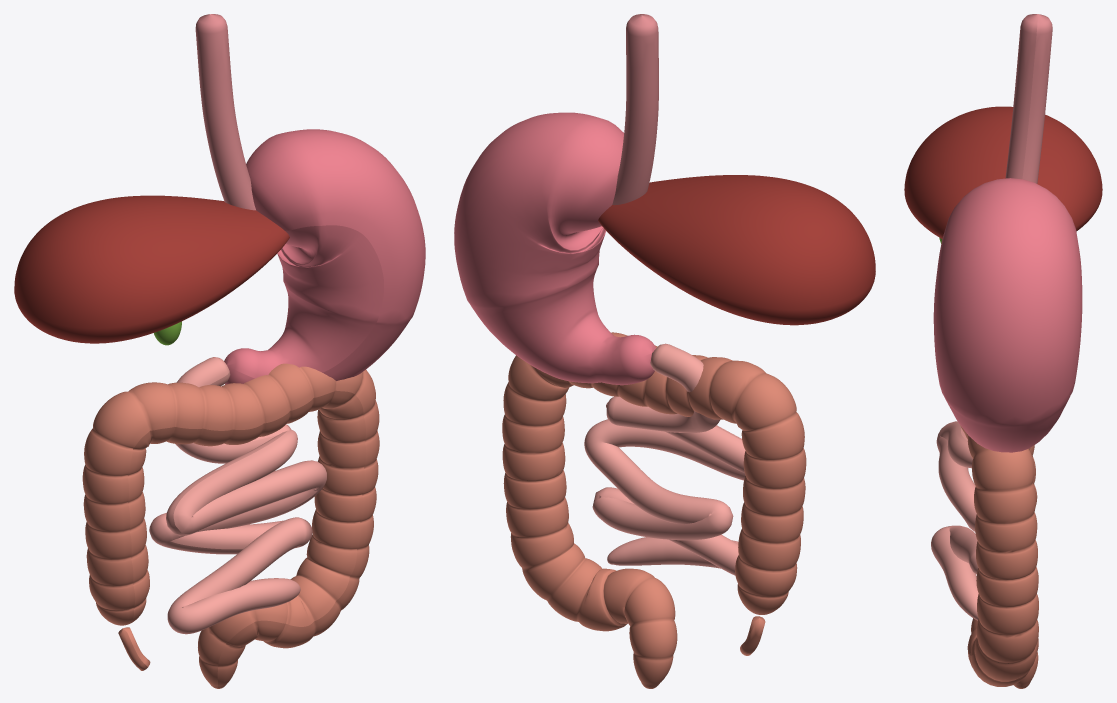
Rendered from digestorio.glb.
The picture shows the model from 3 angles, left to right: view 1: azimuth 30°, elevation 25°; view 2: azimuth 150°, elevation 25°; view 3: azimuth 270°, elevation 25°; orthographic projection.
Visible parts, largest first — view 1: intestino_grosso, estomago, figado, intestino_delgado, esofago, intestinos; view 2: intestino_grosso, estomago, figado, intestino_delgado, esofago, intestinos; view 3: estomago, intestino_grosso, figado, intestino_delgado, esofago.
Part boxes in pixels (bbox=[...]): intestino_grosso: bbox=[82, 363, 379, 688]; estomago: bbox=[224, 129, 425, 384]; figado: bbox=[14, 195, 289, 343]; intestino_delgado: bbox=[149, 429, 326, 634]; esofago: bbox=[195, 14, 255, 210]; intestinos: bbox=[118, 357, 291, 670]; intestino_grosso: bbox=[502, 332, 806, 688]; estomago: bbox=[454, 112, 656, 385]; figado: bbox=[598, 175, 875, 325]; intestino_delgado: bbox=[584, 402, 745, 575]; esofago: bbox=[612, 14, 658, 205]; intestinos: bbox=[606, 343, 765, 655]; estomago: bbox=[933, 178, 1082, 452]; intestino_grosso: bbox=[960, 425, 1038, 688]; figado: bbox=[904, 106, 1102, 238]; intestino_delgado: bbox=[931, 421, 978, 620]; esofago: bbox=[1005, 14, 1052, 183].
Size of the model in its own units: 0.2566 by 0.42 by 0.1118.
